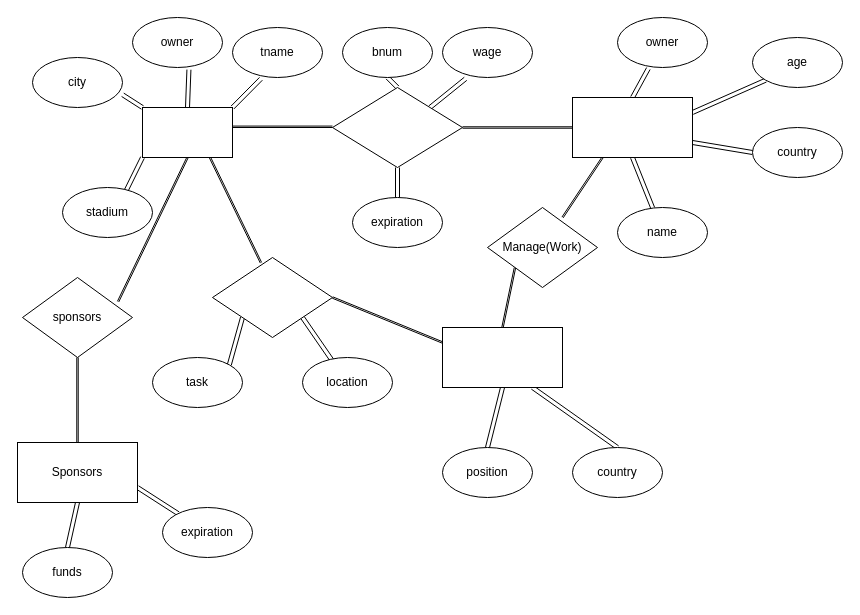
This 860x615 diagram has some shape labels left out. Each missing label, with the centre of its shape:
Athletes: the point at 632,127
Contract: the point at 397,127
staffs: the point at 502,357
Teams: the point at 187,132
Work: the point at 272,297
